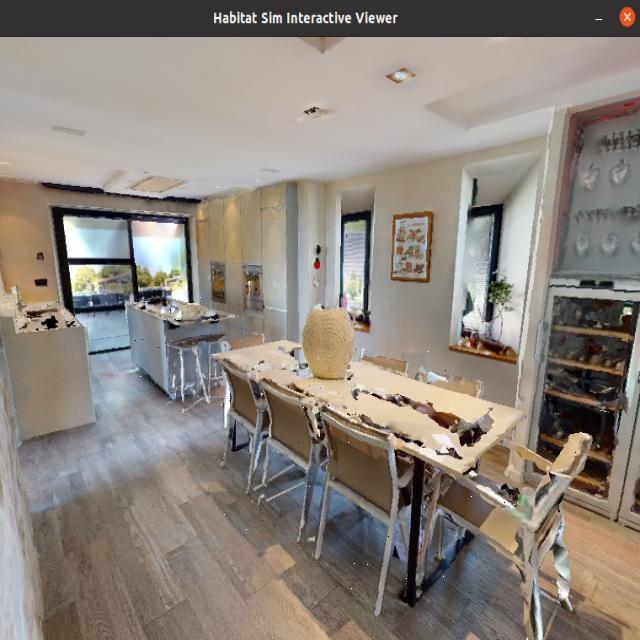chair: (437, 406, 626, 640), (310, 399, 430, 608), (248, 378, 335, 528)
table: (214, 321, 524, 580), (125, 289, 228, 387)
